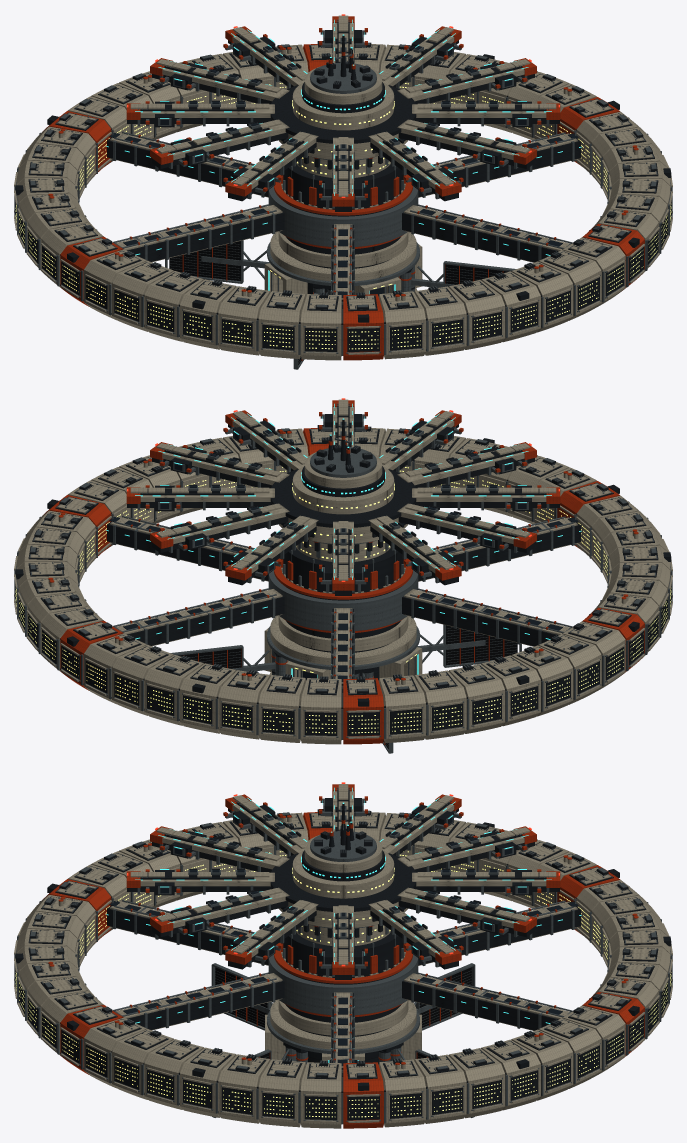
Rendered from cinder_anchorage.glb.
3 renders of one model, top to bottom at view 1: azimuth 30°, elevation 25°; view 2: azimuth 150°, elevation 25°; view 3: azimuth 270°, elevation 25°, orthographic.
Parts seen in each view (by area): view 1: Habitat_Ceramic_Ivory, Habitat_Frame_Gunmetal, Hub_Ceramic_Ivory, Hub_Frame_Gunmetal, Detail_rotor_Titanium_Edges, Habitat_Titanium_Edges, Hub_Titanium_Edges, Hub_Industrial_Orange, Detail_rotor_Ceramic_Ivory, Habitat_Industrial_Orange, Detail_rotor_Frame_Gunmetal, Habitat_Recess_Black (+8 smaller); view 2: Habitat_Ceramic_Ivory, Habitat_Frame_Gunmetal, Hub_Ceramic_Ivory, Hub_Frame_Gunmetal, Detail_rotor_Titanium_Edges, Habitat_Titanium_Edges, Hub_Titanium_Edges, Hub_Industrial_Orange, Detail_rotor_Ceramic_Ivory, Habitat_Industrial_Orange, Detail_rotor_Frame_Gunmetal, Habitat_Recess_Black (+8 smaller); view 3: Habitat_Ceramic_Ivory, Habitat_Frame_Gunmetal, Hub_Ceramic_Ivory, Hub_Frame_Gunmetal, Detail_rotor_Titanium_Edges, Habitat_Titanium_Edges, Hub_Titanium_Edges, Hub_Industrial_Orange, Detail_rotor_Ceramic_Ivory, Habitat_Industrial_Orange, Detail_rotor_Frame_Gunmetal, Habitat_Recess_Black (+7 smaller).
Part boxes in pixels (<box>): Habitat_Ceramic_Ivory: <box>16,44,670,360</box>; Habitat_Frame_Gunmetal: <box>15,41,671,351</box>; Hub_Ceramic_Ivory: <box>130,15,556,296</box>; Hub_Frame_Gunmetal: <box>127,22,559,294</box>; Detail_rotor_Titanium_Edges: <box>14,42,672,355</box>; Habitat_Titanium_Edges: <box>15,44,671,353</box>; Hub_Titanium_Edges: <box>137,29,549,369</box>; Hub_Industrial_Orange: <box>126,16,560,360</box>; Detail_rotor_Ceramic_Ivory: <box>14,49,672,354</box>; Habitat_Industrial_Orange: <box>43,44,644,360</box>; Detail_rotor_Frame_Gunmetal: <box>29,42,657,309</box>; Habitat_Recess_Black: <box>32,45,654,308</box>; Habitat_Ceramic_Ivory: <box>16,428,670,744</box>; Habitat_Frame_Gunmetal: <box>15,425,671,735</box>; Hub_Ceramic_Ivory: <box>130,399,556,678</box>; Hub_Frame_Gunmetal: <box>127,406,559,680</box>; Detail_rotor_Titanium_Edges: <box>14,426,672,739</box>; Habitat_Titanium_Edges: <box>15,428,671,737</box>; Hub_Titanium_Edges: <box>137,413,549,753</box>; Hub_Industrial_Orange: <box>126,400,560,744</box>; Detail_rotor_Ceramic_Ivory: <box>14,433,672,738</box>; Habitat_Industrial_Orange: <box>43,428,644,744</box>; Detail_rotor_Frame_Gunmetal: <box>29,426,657,693</box>; Habitat_Recess_Black: <box>32,429,654,692</box>; Habitat_Ceramic_Ivory: <box>16,812,670,1128</box>; Habitat_Frame_Gunmetal: <box>15,809,671,1120</box>; Hub_Ceramic_Ivory: <box>130,784,556,1060</box>; Hub_Frame_Gunmetal: <box>127,789,559,1064</box>; Detail_rotor_Titanium_Edges: <box>14,810,672,1124</box>; Habitat_Titanium_Edges: <box>15,813,671,1121</box>; Hub_Titanium_Edges: <box>137,797,549,1117</box>; Hub_Industrial_Orange: <box>126,784,560,1060</box>; Detail_rotor_Ceramic_Ivory: <box>14,817,672,1122</box>; Habitat_Industrial_Orange: <box>42,812,644,1128</box>; Detail_rotor_Frame_Gunmetal: <box>29,811,657,1077</box>; Habitat_Recess_Black: <box>32,814,654,1076</box>.
Size of the model in its own units: 2015 by 951 by 2015.
Materials: 9 (5 with a texture image).
